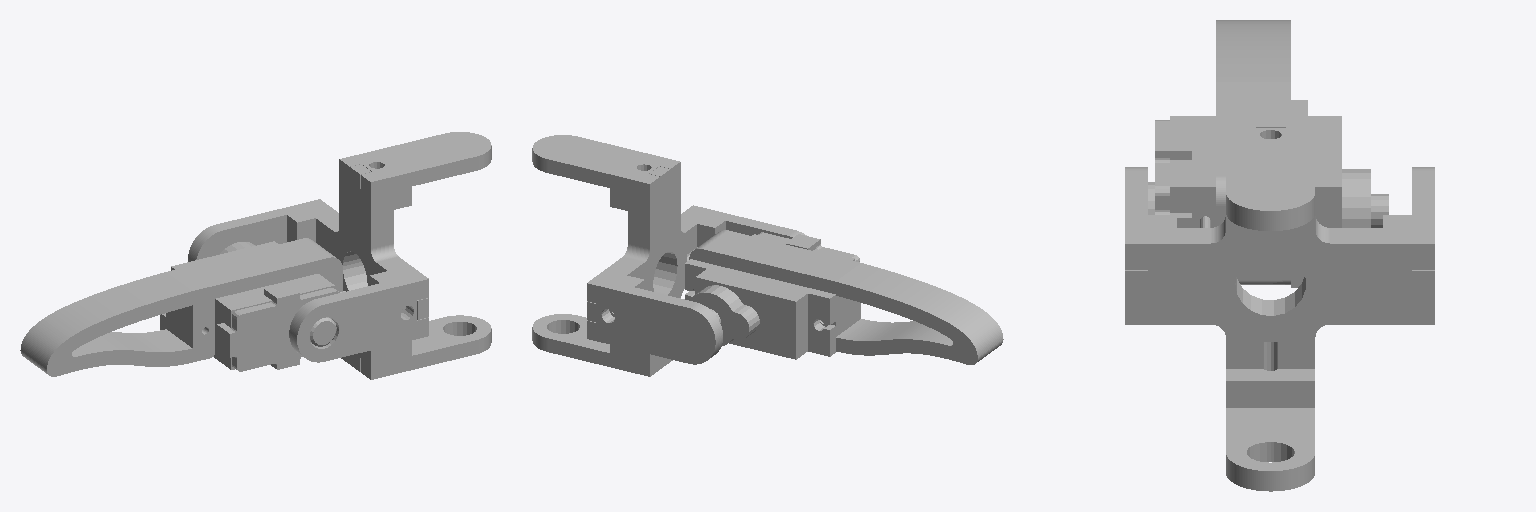
URDF robot description (spiderbotv8):
<?xml version="1.0" encoding="utf-8"?>
<!-- This URDF was automatically created by SolidWorks to URDF Exporter! Originally created by [author] ([email redacted]) 
     Commit Version: 1.5.1-0-g916b5db  Build Version: 1.5.7152.31018
     For more information, please see http://wiki.ros.org/sw_urdf_exporter -->
<robot
  name="spiderbotv8">
  <link
    name="base_link">
    <inertial>
      <origin
        xyz="6.52377531783468E-05 -0.0021170715917473 0.0364107331720625"
        rpy="0 0 0" />
      <mass
        value="0.0726541894616852" />
      <inertia
        ixx="3.02647463521448E-05"
        ixy="1.57081847985685E-09"
        ixz="3.15890627766527E-11"
        iyy="1.78058902607528E-05"
        iyz="-1.01459254458863E-07"
        izz="4.36287378114362E-05" />
    </inertial>
    <visual>
      <origin
        xyz="0 0 0"
        rpy="0 0 0" />
      <geometry>
        <mesh
          filename="package://spiderbotv8/meshes/base_link.STL" />
      </geometry>
      <material
        name="">
        <color
          rgba="0.752941176470588 0.752941176470588 0.752941176470588 1" />
      </material>
    </visual>
    <collision>
      <origin
        xyz="0 0 0"
        rpy="0 0 0" />
      <geometry>
        <mesh
          filename="package://spiderbotv8/meshes/base_link.STL" />
      </geometry>
    </collision>
  </link>
  <link
    name="r1">
    <inertial>
      <origin
        xyz="-0.020499999920902 0.000389285101961867 0.0198892805772913"
        rpy="0 0 0" />
      <mass
        value="0.00713023456386856" />
      <inertia
        ixx="7.56087099566393E-07"
        ixy="2.42840649896817E-09"
        ixz="-2.42840649896825E-09"
        iyy="5.95760525058341E-07"
        iyz="2.50084225320641E-09"
        izz="5.95760523642093E-07" />
    </inertial>
    <visual>
      <origin
        xyz="0 0 0"
        rpy="0 0 0" />
      <geometry>
        <mesh
          filename="package://spiderbotv8/meshes/r1.STL" />
      </geometry>
      <material
        name="">
        <color
          rgba="0.752941176470588 0.752941176470588 0.752941176470588 1" />
      </material>
    </visual>
    <collision>
      <origin
        xyz="0 0 0"
        rpy="0 0 0" />
      <geometry>
        <mesh
          filename="package://spiderbotv8/meshes/r1.STL" />
      </geometry>
    </collision>
  </link>
  <joint
    name="right1"
    type="revolute">
    <origin
      xyz="-0.030488 -0.027296 0.0193"
      rpy="0 0 0" />
    <parent
      link="base_link" />
    <child
      link="r1" />
    <axis
      xyz="0 0 -1" />
    <limit
      lower="0"
      upper="0"
      effort="0"
      velocity="0" />
  </joint>
  <link
    name="sr1">
    <inertial>
      <origin
        xyz="-0.0103855500283455 0.0172280687962712 0.000907834339010391"
        rpy="0 0 0" />
      <mass
        value="0.0122153753102686" />
      <inertia
        ixx="6.06191507620996E-07"
        ixy="-2.6357706811751E-08"
        ixz="-4.62613535616074E-08"
        iyy="2.09883870458556E-06"
        iyz="-5.7703659796975E-16"
        izz="2.33635633104651E-06" />
    </inertial>
    <visual>
      <origin
        xyz="0 0 0"
        rpy="0 0 0" />
      <geometry>
        <mesh
          filename="package://spiderbotv8/meshes/sr1.STL" />
      </geometry>
      <material
        name="">
        <color
          rgba="0.752941176470588 0.752941176470588 0.752941176470588 1" />
      </material>
    </visual>
    <collision>
      <origin
        xyz="0 0 0"
        rpy="0 0 0" />
      <geometry>
        <mesh
          filename="package://spiderbotv8/meshes/sr1.STL" />
      </geometry>
    </collision>
  </link>
  <joint
    name="suppright1"
    type="revolute">
    <origin
      xyz="-0.041 -0.0195 0.0195"
      rpy="0 0 0" />
    <parent
      link="r1" />
    <child
      link="sr1" />
    <axis
      xyz="0 -1 0" />
    <limit
      lower="0"
      upper="0"
      effort="0"
      velocity="0" />
  </joint>
</robot>

--- Facts derived from the render (not from the file) ---
Views: 3 orthographic renders of the robot side by side, from view 1: azimuth 30°, elevation 25°; view 2: azimuth 150°, elevation 25°; view 3: azimuth 270°, elevation 25°.
Model spiderbotv8 with 3 links and 2 joints (2 revolute), rooted at base_link, posed every joint at zero.
Visible links, largest first — view 1: r1, sr1; view 2: sr1, r1; view 3: r1, sr1.
Boxes of the visible links, <box> form: r1: <box>188,132,491,379</box>; sr1: <box>20,238,345,376</box>; sr1: <box>685,230,1003,364</box>; r1: <box>532,135,806,376</box>; r1: <box>1125,120,1434,491</box>; sr1: <box>1148,20,1388,287</box>.
Size in the robot's own frame: 0.1009 by 0.0415 by 0.0415 metres.
2 mesh visuals loaded from 3 distinct referenced files (2 binary STL); not drawn: 1 (reference not matched to a file when rendering).